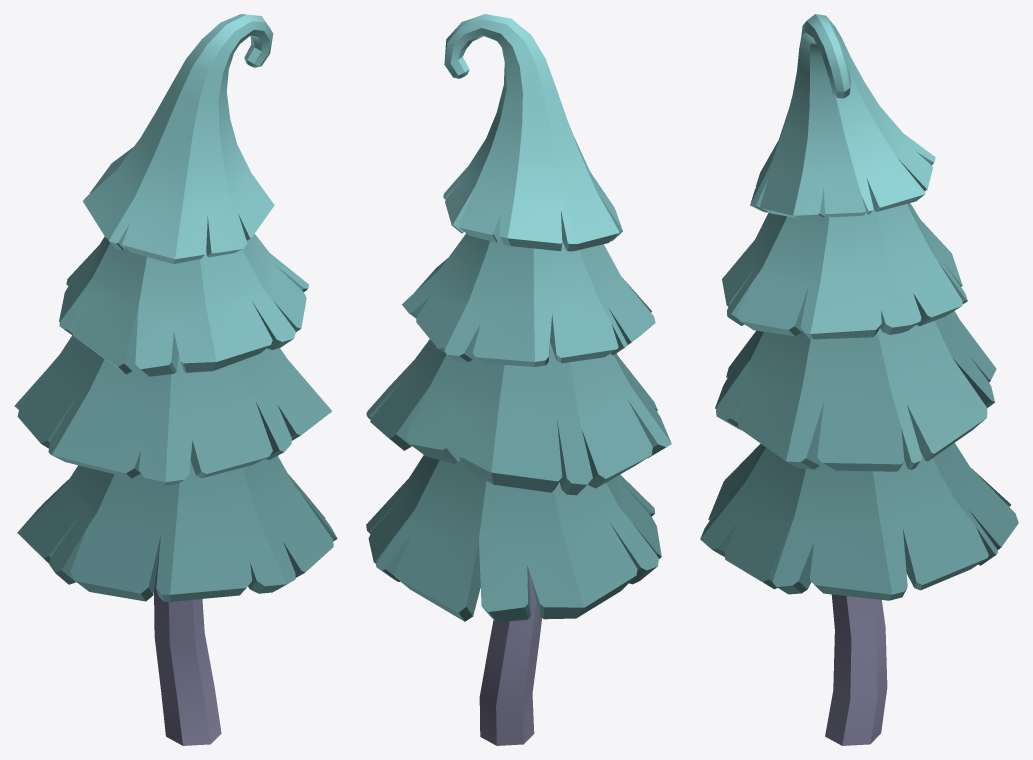
File: Mystic_Tree_L_A.fbx
The picture shows the model from 3 angles, left to right: view 1: azimuth 30°, elevation 25°; view 2: azimuth 150°, elevation 25°; view 3: azimuth 270°, elevation 25°; orthographic projection. The views are drawn at different scales.
Visible parts, largest first — view 1: Mystic_Tree_L_A; view 2: Mystic_Tree_L_A; view 3: Mystic_Tree_L_A.
Part boxes in pixels (left/top/right/bottom): Mystic_Tree_L_A: left=14, top=14, right=337, bottom=745; Mystic_Tree_L_A: left=366, top=14, right=671, bottom=745; Mystic_Tree_L_A: left=700, top=14, right=1018, bottom=745.
Bounding box in the file's own units: 527 × 1292 × 511.
